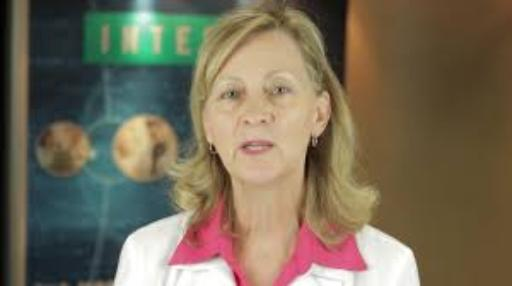left_eye: (268, 86, 297, 98)
left_lip_corner: (268, 142, 278, 151)
right_eye: (219, 88, 244, 100)
right_lip_corner: (237, 141, 248, 152)
